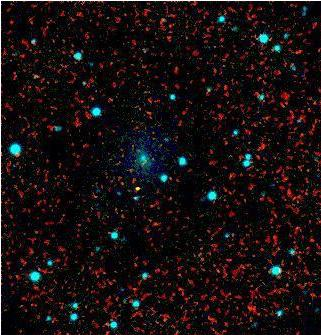star: (124, 174, 154, 204)
